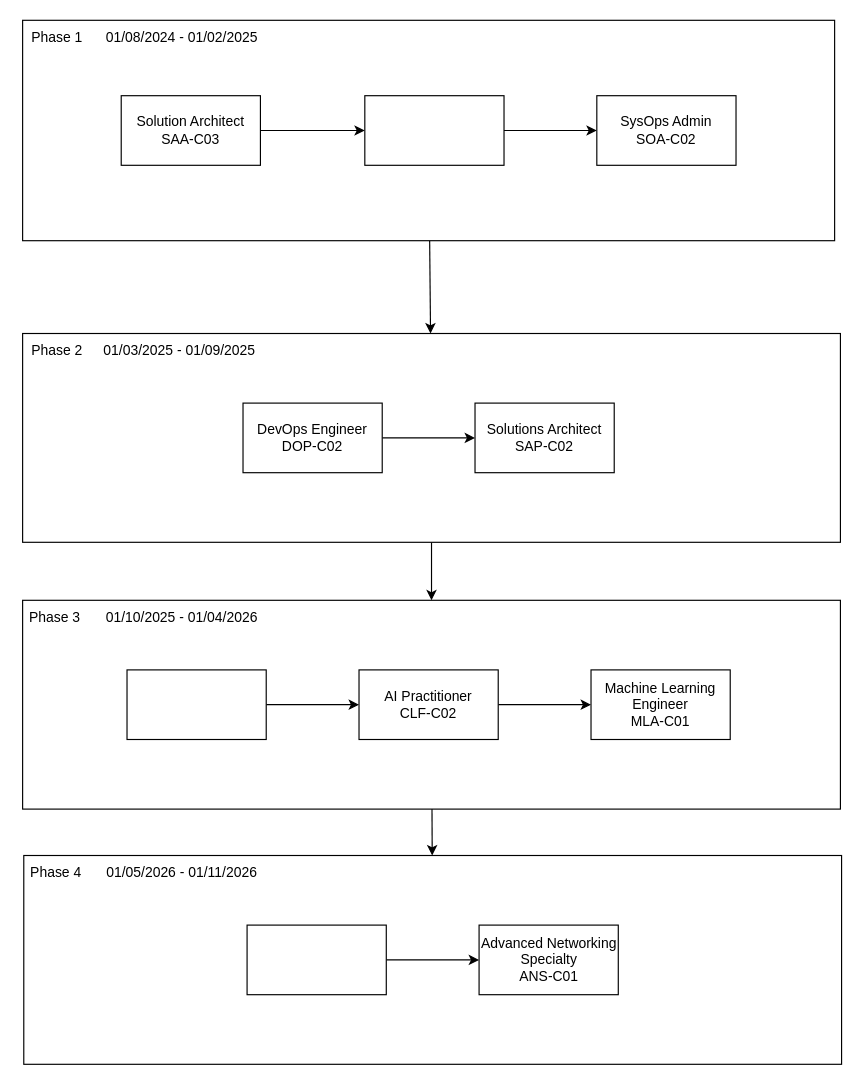
Some shapes in this 862 by 1085 pixel diagram are drawn without their labels. The shapes that lost their labels are listed below. From the top down, each one's box as (x1, y1, x2, y2) in pixels, then its label:
(364, 95, 504, 165): Developer DVA-C02
(126, 669, 266, 740): Security Specialty SCS-C02
(246, 924, 386, 995): Machine Learning Specialty MLS-C01
